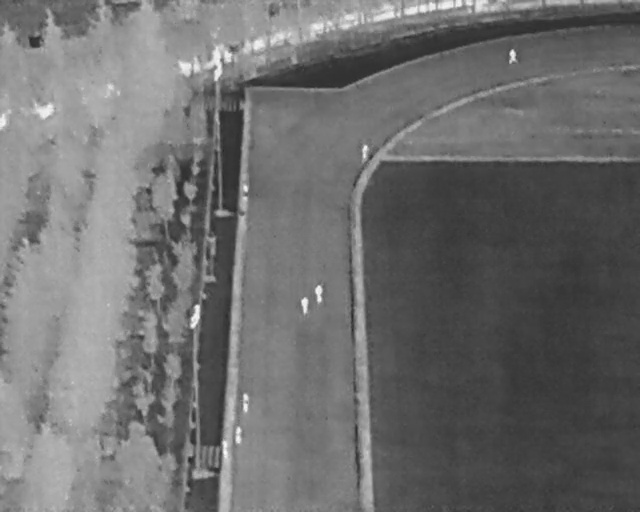Person: (313, 285, 325, 303), (300, 295, 310, 316), (233, 425, 243, 444), (241, 392, 250, 412), (508, 47, 518, 62), (361, 143, 368, 162)
